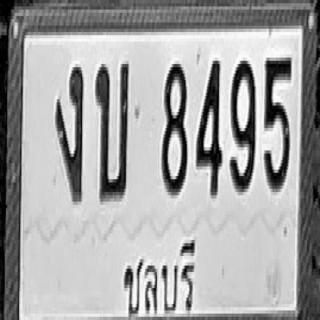A07: (55, 64, 83, 202)
A26: (95, 61, 129, 202)
N04: (196, 58, 222, 195)
N05: (264, 54, 291, 192)
N08: (161, 61, 187, 195)
N09: (230, 58, 254, 192)
P13: (116, 232, 202, 320)
